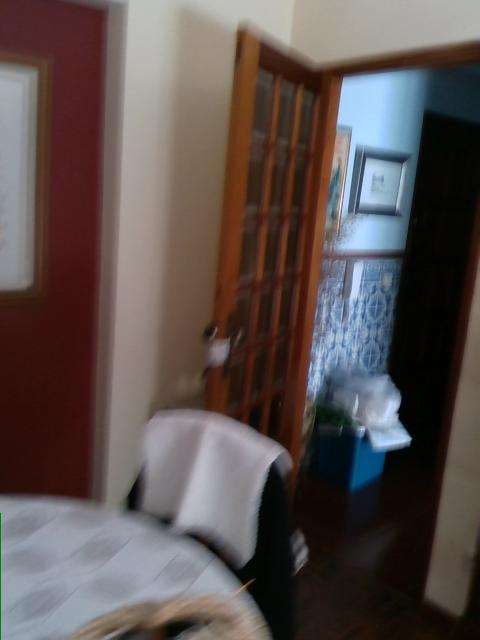door: (207, 22, 329, 468)
